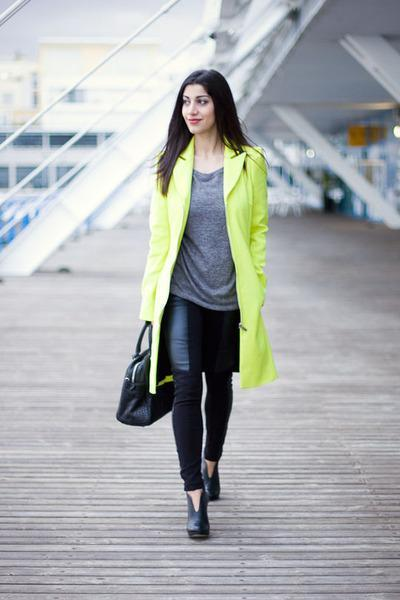bag: (116, 324, 170, 426)
jacket: (132, 135, 276, 393)
pants: (145, 289, 240, 473)
shirt: (169, 167, 238, 310)
shoe: (175, 468, 221, 539)
